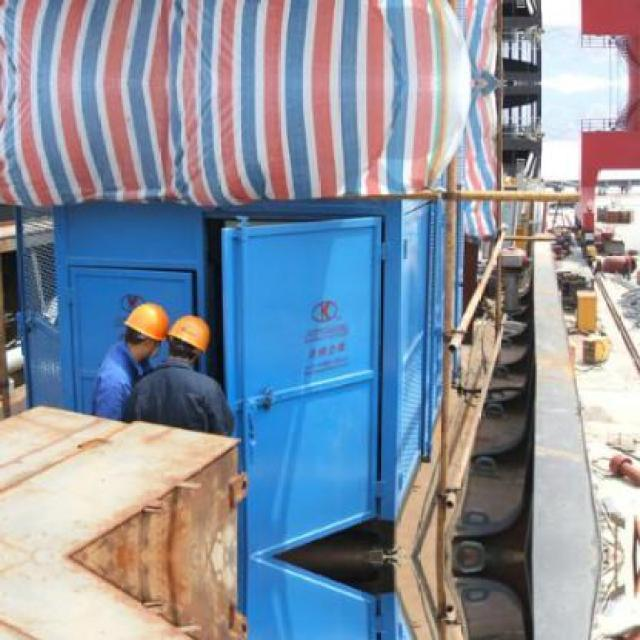helmet: (124, 302, 169, 341), (168, 315, 210, 352)
